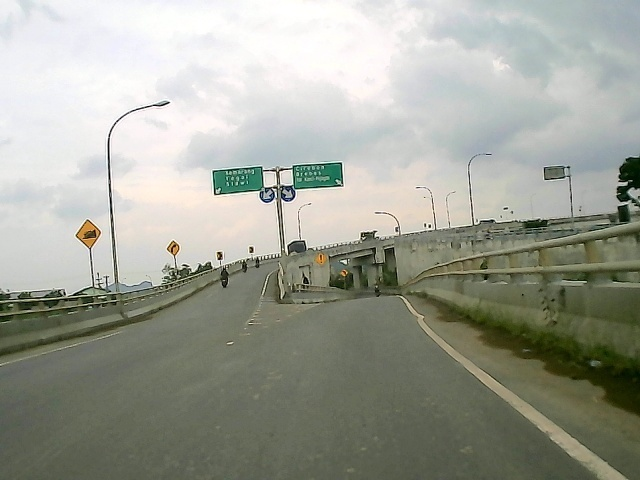Hati-hati: (314, 252, 327, 266)
Jalanan menanjak: (73, 217, 101, 251)
Tikungan ke kanan: (164, 240, 181, 258)
